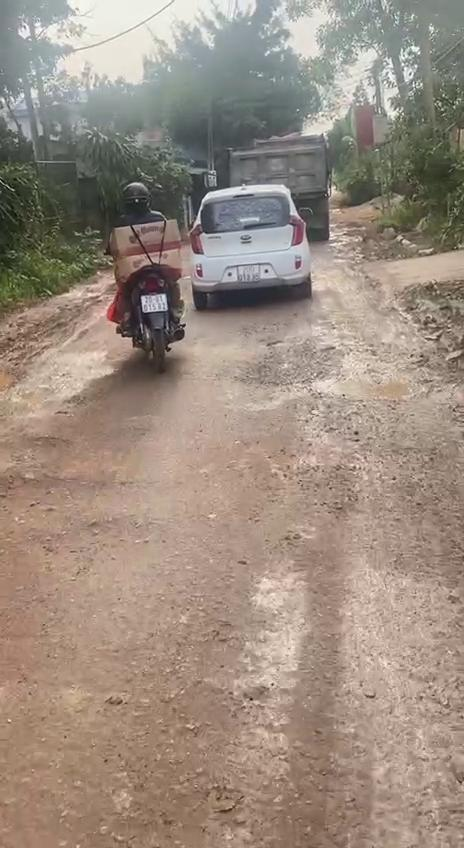pothole: (300, 369, 431, 405), (0, 434, 72, 481)
